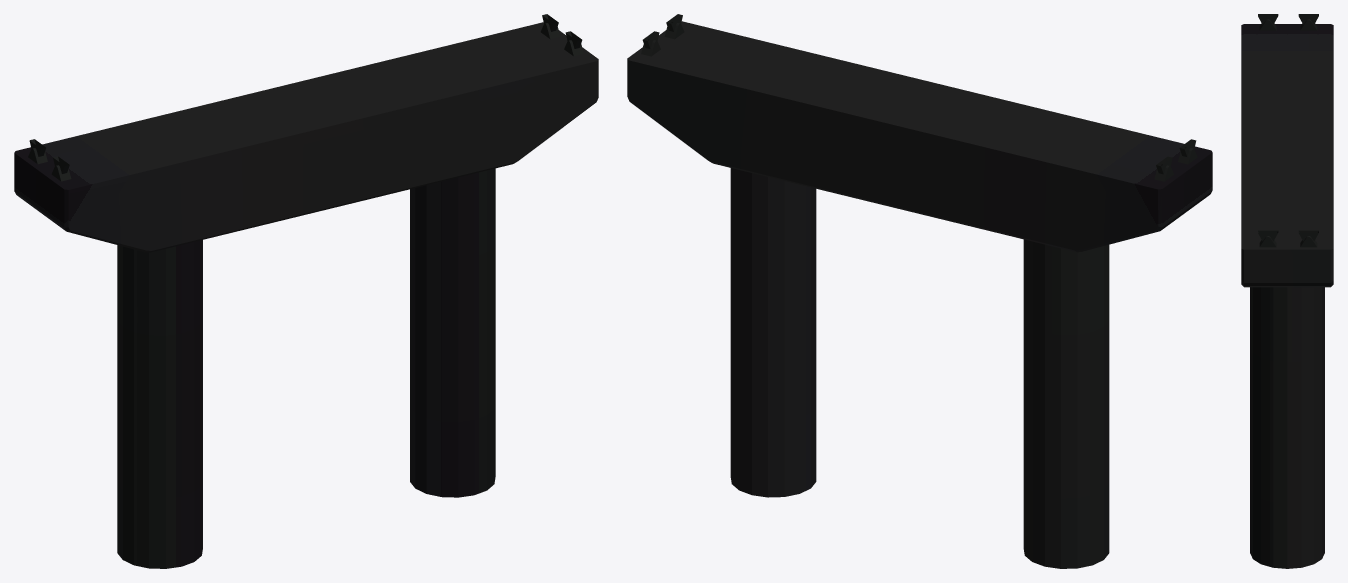
Rendered from Highway_Segment_Pillar00.fbx.
3 renders of one model, left to right at view 1: azimuth 30°, elevation 25°; view 2: azimuth 150°, elevation 25°; view 3: azimuth 270°, elevation 25°, orthographic. The views are drawn at different scales.
Parts seen in each view (by area): view 1: SM_City_Highway_Segment_Pillar_01a.mo; view 2: SM_City_Highway_Segment_Pillar_01a.mo; view 3: SM_City_Highway_Segment_Pillar_01a.mo.
Part boxes in pixels (left/top/right/bottom): SM_City_Highway_Segment_Pillar_01a.mo: left=14, top=14, right=598, bottom=568; SM_City_Highway_Segment_Pillar_01a.mo: left=627, top=14, right=1212, bottom=568; SM_City_Highway_Segment_Pillar_01a.mo: left=1241, top=14, right=1333, bottom=568.
Size of the model in its own units: 1030 by 783 by 178.
